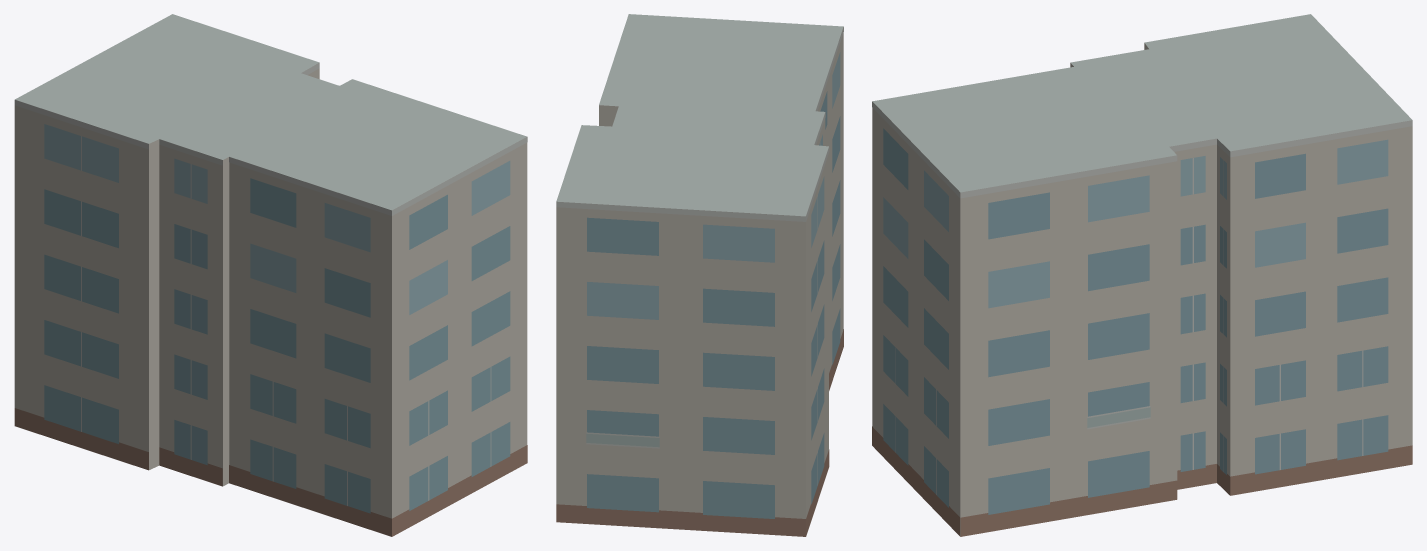
File: survey-upis-32971136.glb
The picture shows the model from 3 angles, left to right: view 1: azimuth 30°, elevation 25°; view 2: azimuth 150°, elevation 25°; view 3: azimuth 270°, elevation 25°; orthographic projection. The views are drawn at different scales.
Parts seen in each view (by area): view 1: survey-upis-32971136.tmp; view 2: survey-upis-32971136.tmp; view 3: survey-upis-32971136.tmp.
Boxes of the visible parts, left/top/right/bottom form: survey-upis-32971136.tmp: left=14, top=14, right=527, bottom=536; survey-upis-32971136.tmp: left=556, top=14, right=843, bottom=536; survey-upis-32971136.tmp: left=872, top=14, right=1412, bottom=536.
Bounding box in the file's own units: 15.57 × 14 × 19.92.
